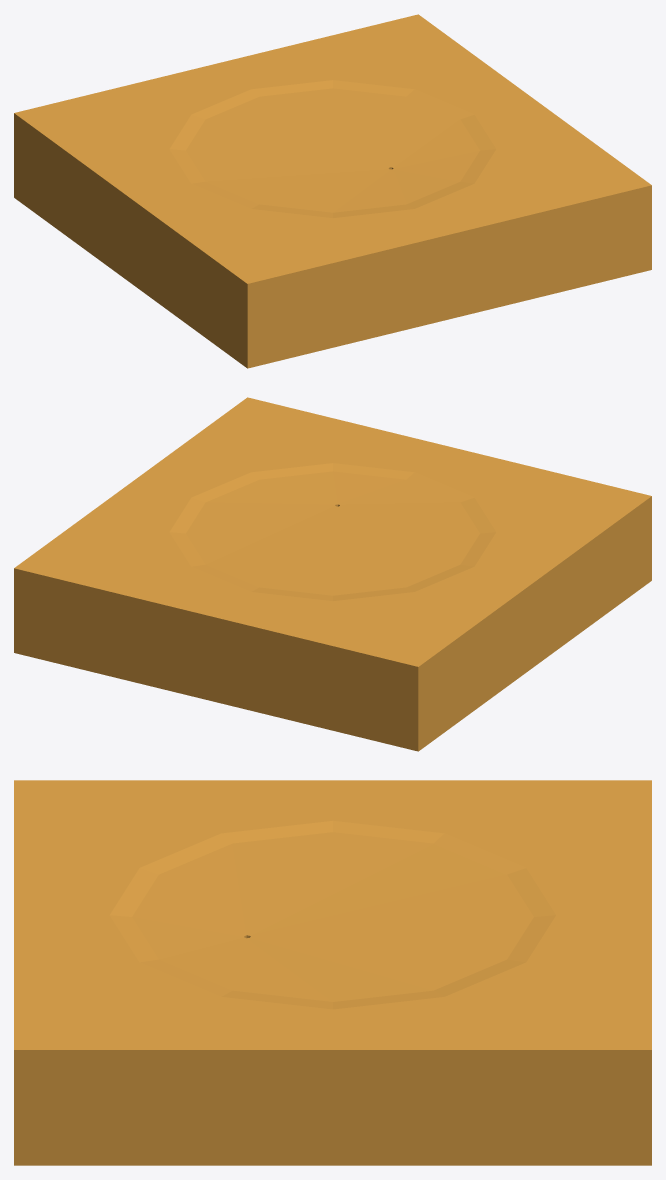
The model's file is tile-golf-green-circle.glb.
The picture shows the model from 3 angles, top to bottom: view 1: azimuth 30°, elevation 25°; view 2: azimuth 150°, elevation 25°; view 3: azimuth 270°, elevation 25°; orthographic projection. The views are drawn at different scales.
Parts seen in each view (by area): view 1: tile-golf-green-circle; view 2: tile-golf-green-circle; view 3: tile-golf-green-circle.
Boxes of the visible parts, box(x1,y1,x2,y2) form: tile-golf-green-circle: box(14, 14, 651, 368); tile-golf-green-circle: box(14, 397, 651, 751); tile-golf-green-circle: box(14, 780, 651, 1165).
Bounding box in the file's own units: 30 × 6 × 30.
